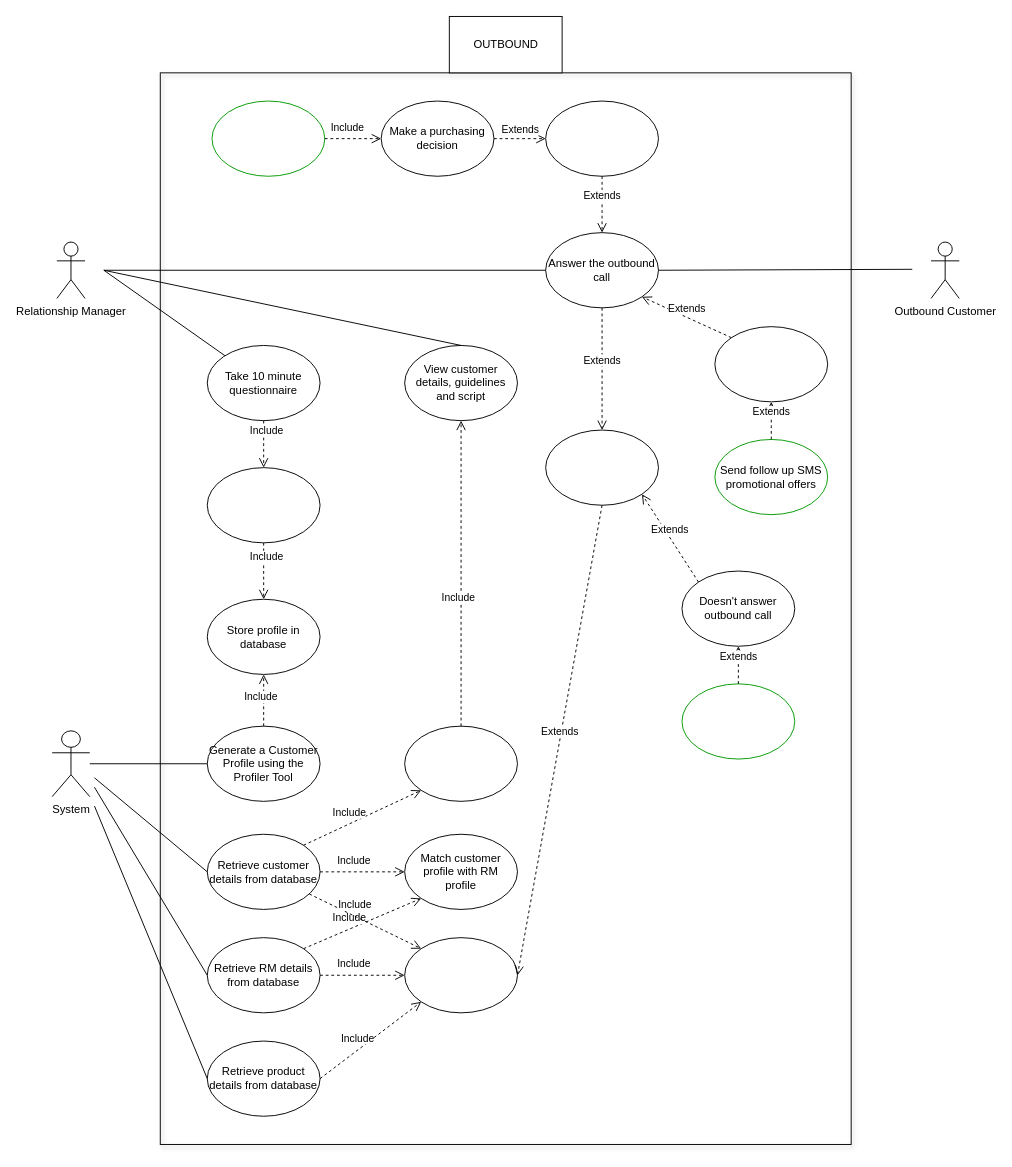
This 1012x1167 diagram has some shape labels left out. Each missing label, with the centre of its shape:
Automatically dial customer numbers from target list: pixel 601 467
Build RM profile and skill matrix: pixel 263 505
Discuss holiday package options: pixel 601 138
Display customer details, guidelines and script: pixel 460 763
Generate customer target list: pixel 460 975
Hang up: pixel 771 364
Leave a voicemail of promotional packages: pixel 738 721
Send purchase confirmation email & invoice: pixel 268 138
